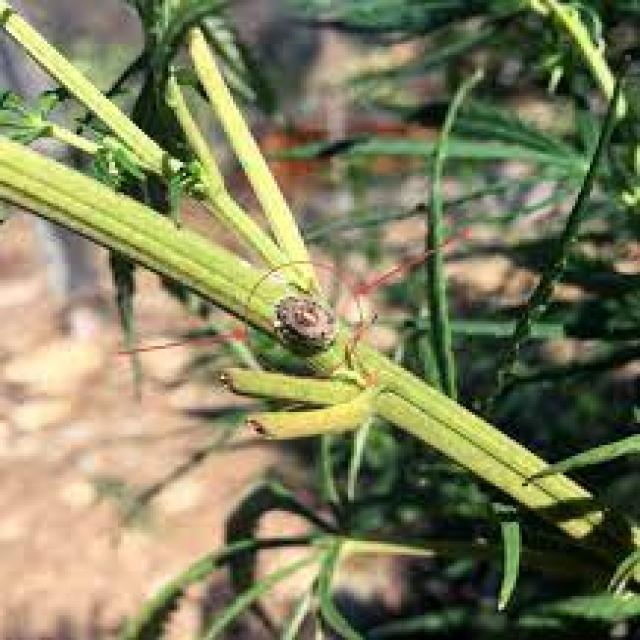scale_insect: (263, 286, 339, 352)
